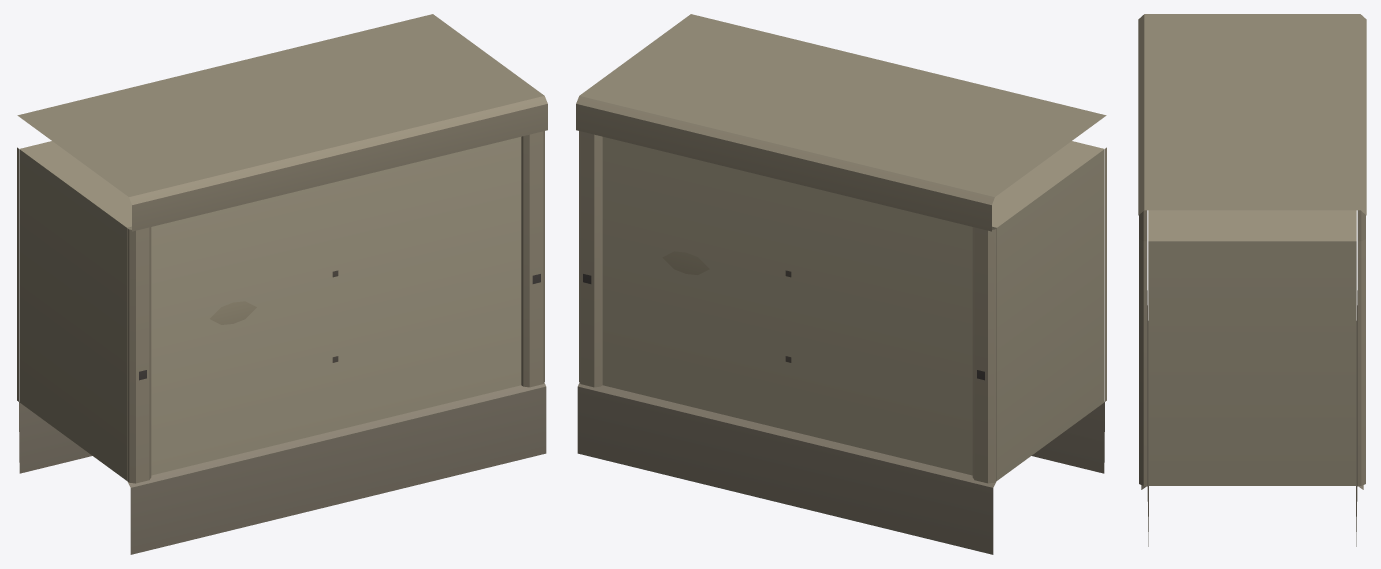
File: plywood_short.glb
3 views of the same model, side by side, from view 1: azimuth 30°, elevation 25°; view 2: azimuth 150°, elevation 25°; view 3: azimuth 270°, elevation 25° (orthographic). The views are drawn at different scales.
Visible parts, largest first — view 1: plywood_short; view 2: plywood_short; view 3: plywood_short.
Boxes of the visible parts, <box> form: plywood_short: <box>17,14,547,554</box>; plywood_short: <box>576,14,1106,554</box>; plywood_short: <box>1138,14,1366,546</box>.
Size of the model in its own units: 0.61 by 0.5 by 0.3.
